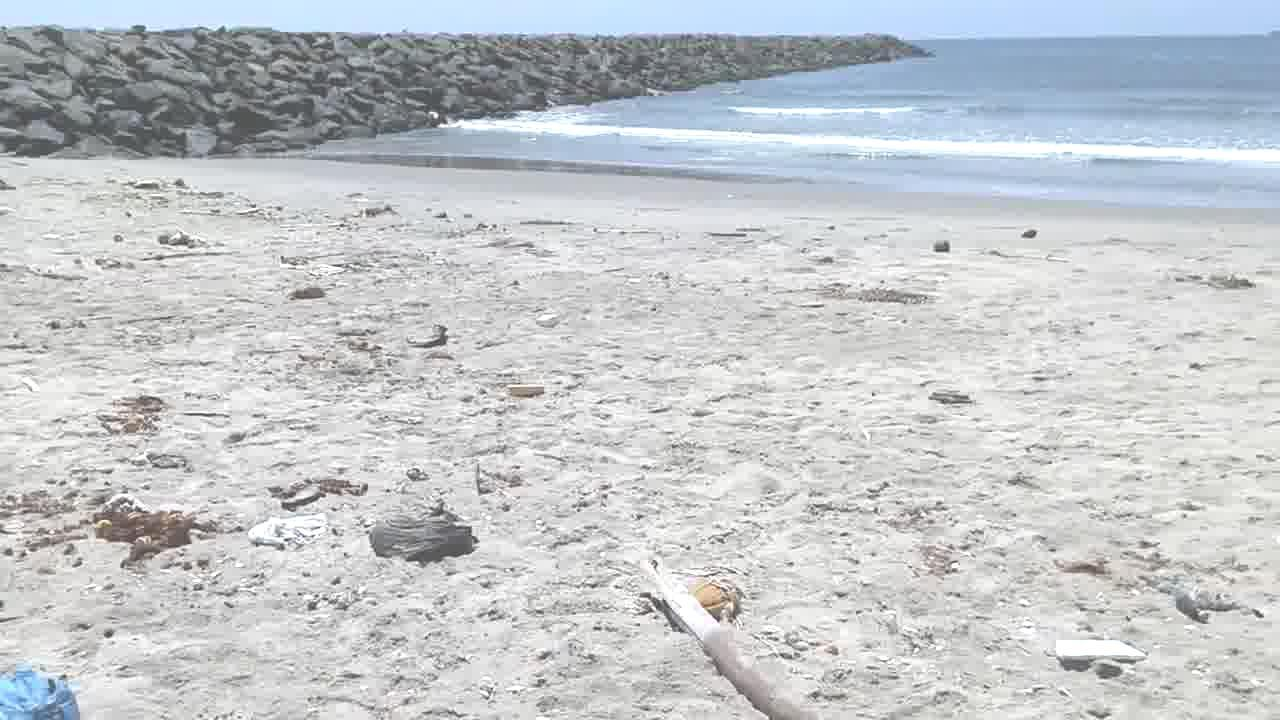obj: (628, 552, 829, 719), (56, 493, 198, 558), (372, 508, 472, 560), (1, 668, 82, 719), (823, 283, 934, 307), (272, 476, 368, 500), (1054, 639, 1146, 660), (412, 322, 449, 350), (510, 382, 544, 395)
sand/background: (1, 0, 1279, 234)
